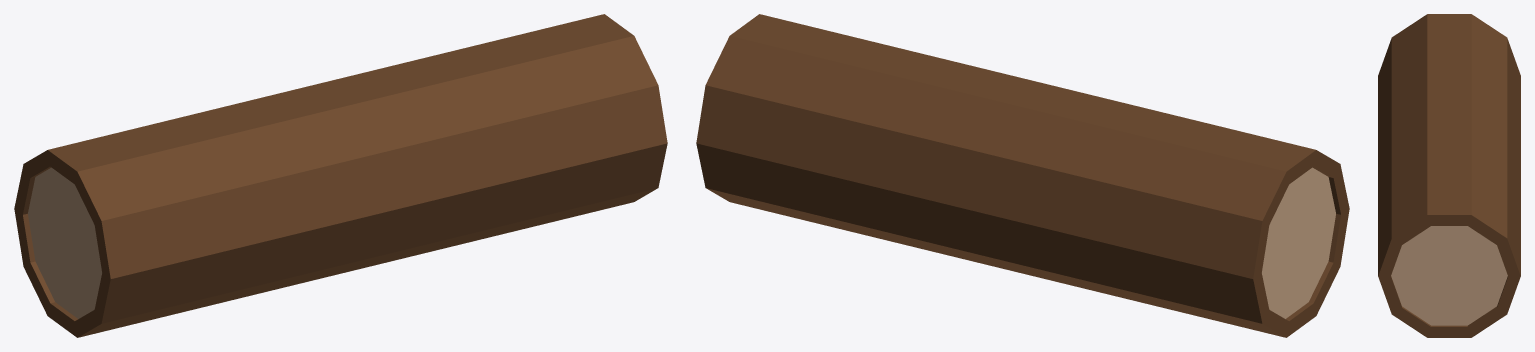
Rendered from tree_log.glb.
3 renders of one model, left to right at view 1: azimuth 30°, elevation 25°; view 2: azimuth 150°, elevation 25°; view 3: azimuth 270°, elevation 25°, orthographic. The views are drawn at different scales.
Parts seen in each view (by area): view 1: Cylinder, Cylinder.001; view 2: Cylinder, Cylinder.001; view 3: Cylinder, Cylinder.001.
Part boxes in pixels (<box>): Cylinder: <box>14,14,667,337</box>; Cylinder.001: <box>28,167,101,318</box>; Cylinder: <box>696,14,1349,337</box>; Cylinder.001: <box>1262,167,1335,318</box>; Cylinder: <box>1378,14,1520,337</box>; Cylinder.001: <box>1391,226,1507,325</box>.
Bounding box in the file's own units: 0.4 × 0.1141 × 0.12.
